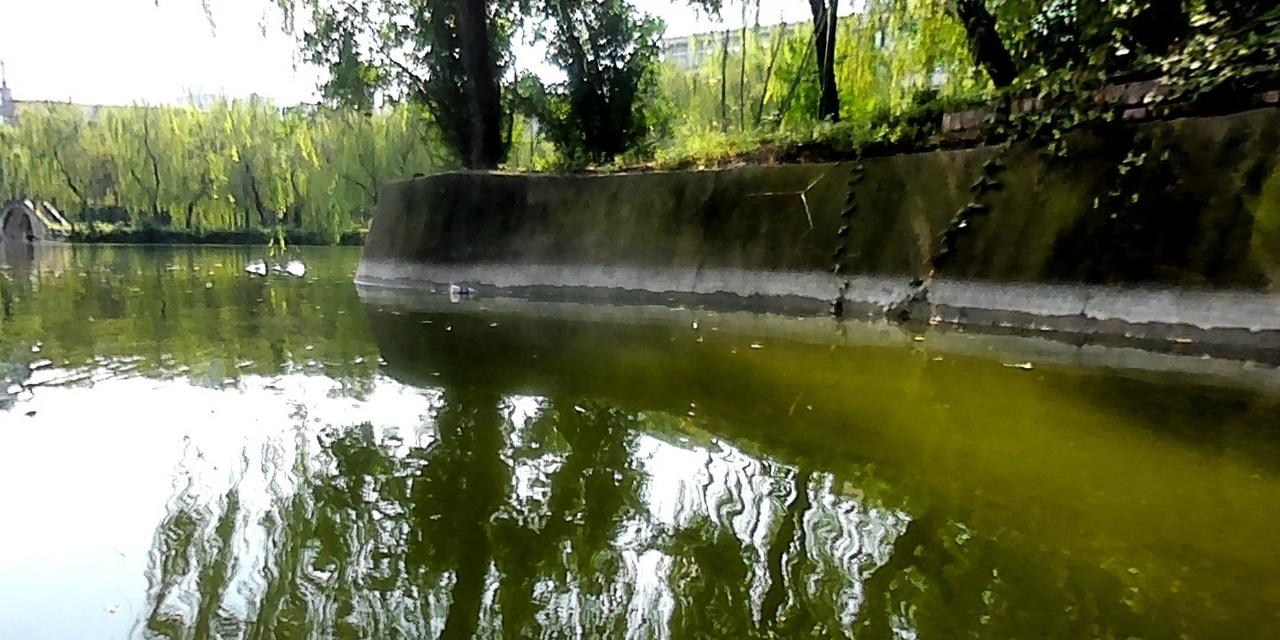bottle: (445, 281, 482, 296), (242, 261, 265, 271)
